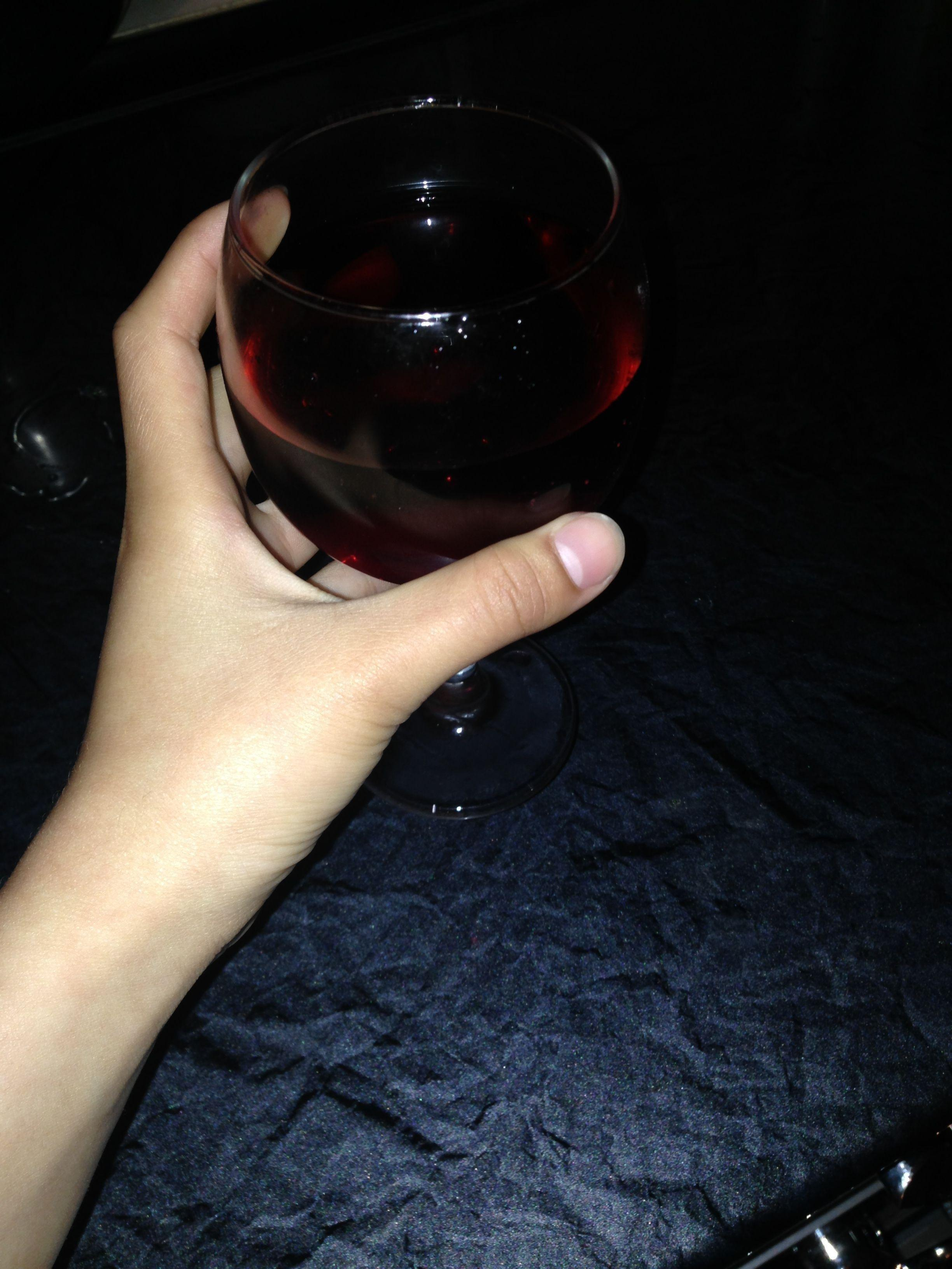glass-wine: (213, 90, 662, 829)
